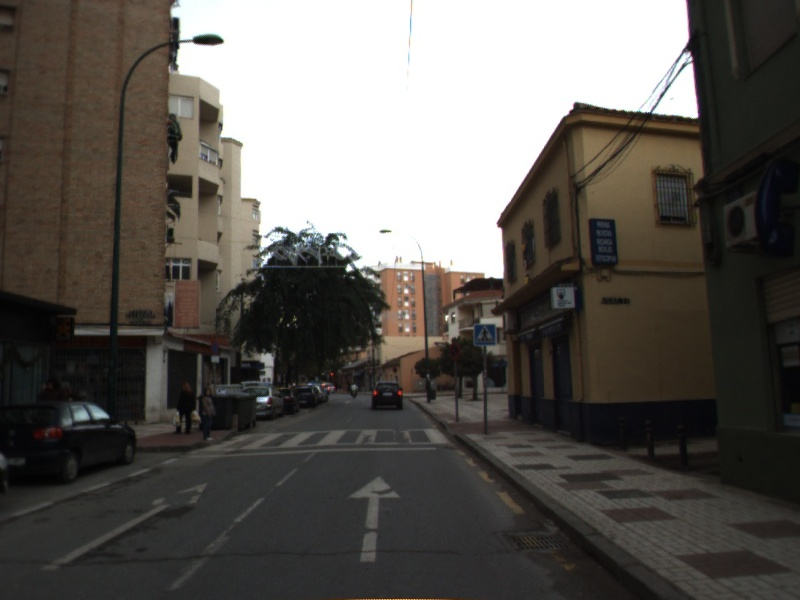STRAIGHT: (37, 480, 211, 573), (344, 474, 403, 565)
